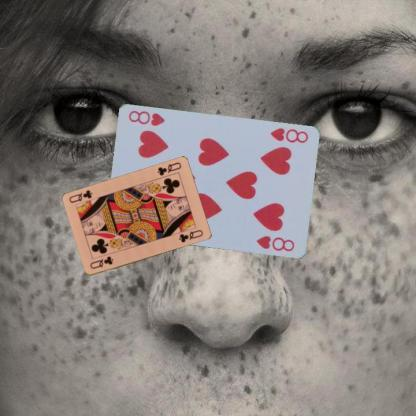8h: (267, 125, 309, 145)
Qc: (154, 160, 183, 177), (88, 254, 115, 270)
